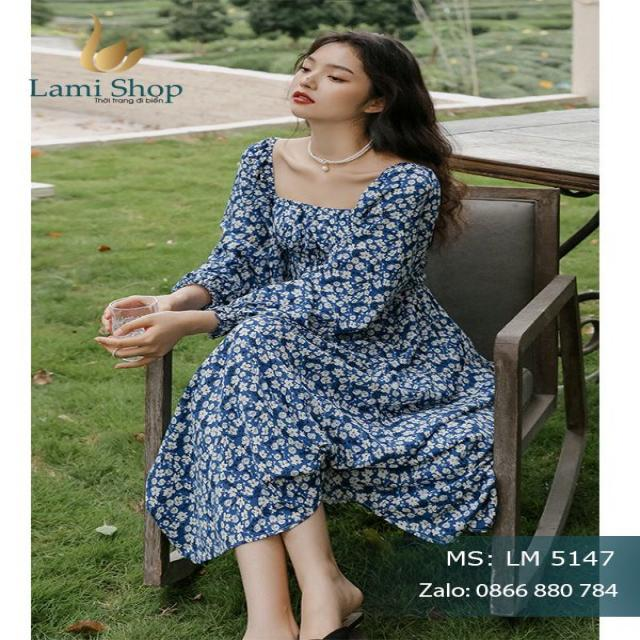clothes: (160, 138, 506, 568)
